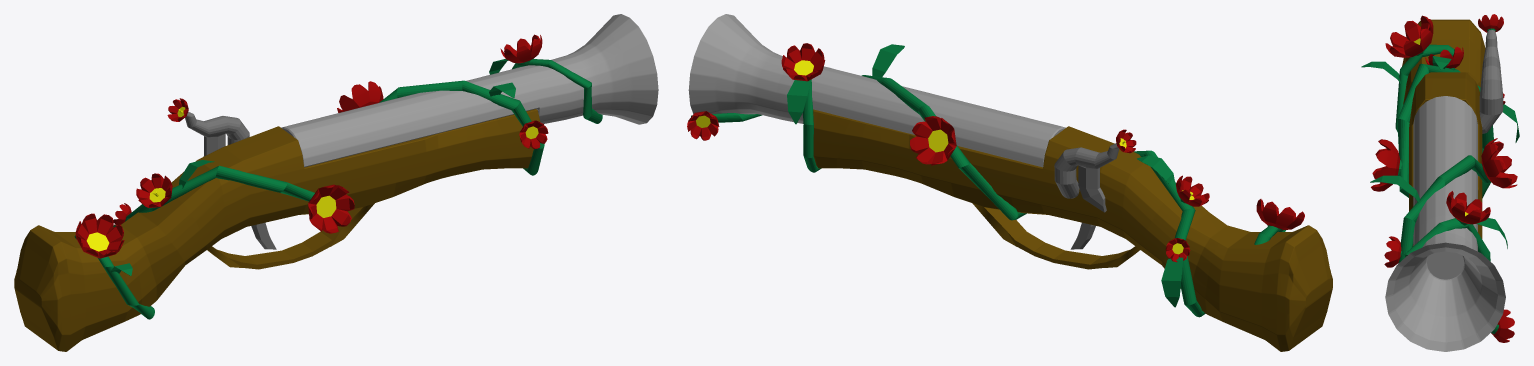
The model's file is Blunderbuss_Flowers.fbx.
The picture shows the model from 3 angles, left to right: view 1: azimuth 30°, elevation 25°; view 2: azimuth 150°, elevation 25°; view 3: azimuth 270°, elevation 25°; orthographic projection. The views are drawn at different scales.
Parts seen in each view (by area): view 1: Blunderbuss; view 2: Blunderbuss; view 3: Blunderbuss.
Part boxes in pixels (bbox=[...]): Blunderbuss: bbox=[14, 14, 658, 351]; Blunderbuss: bbox=[687, 14, 1332, 351]; Blunderbuss: bbox=[1361, 14, 1519, 351].
Size of the model in its own units: 128 by 38.01 by 27.46.
